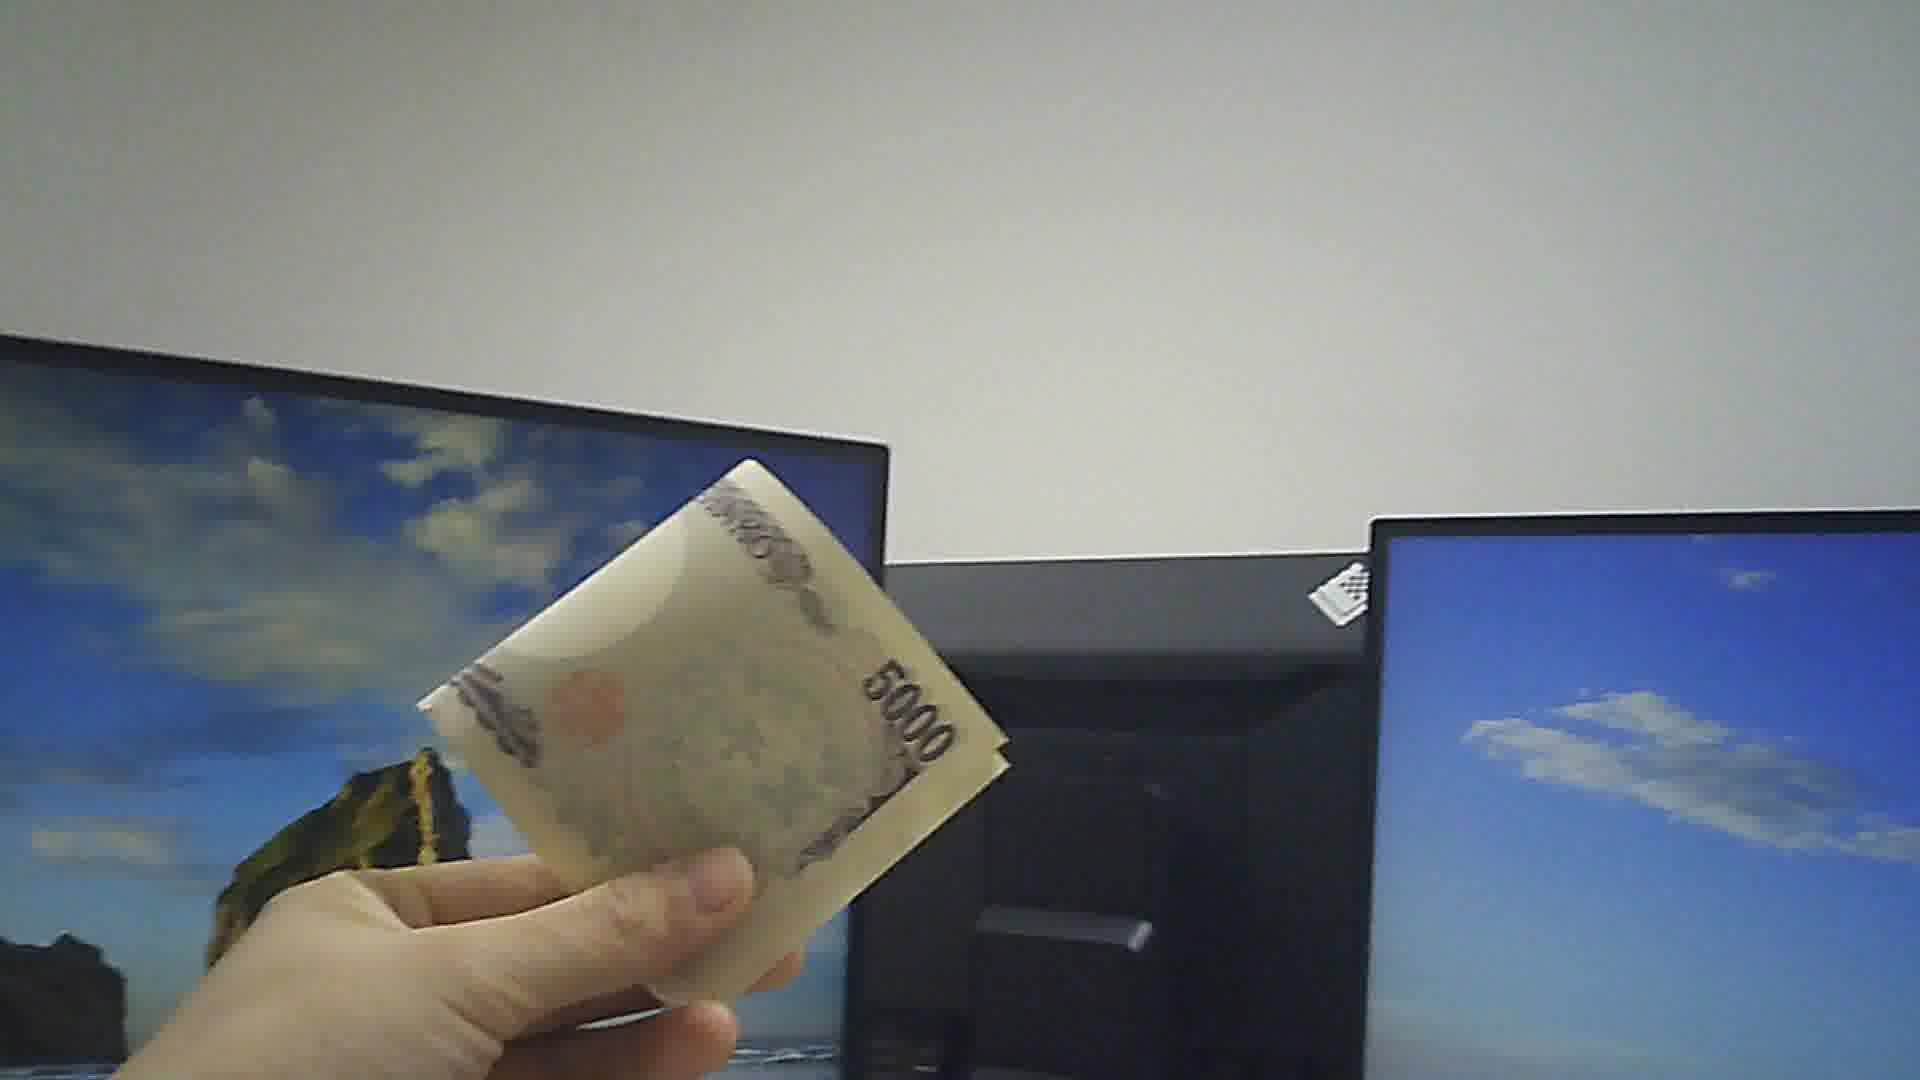5,000 Yen: (433, 436, 1022, 971)
